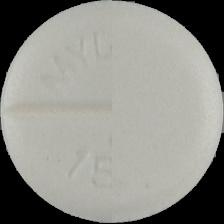43063-190: (0, 0, 224, 224)
